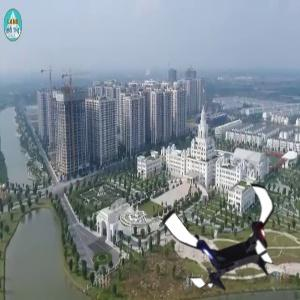drone: (170, 176, 292, 298)
